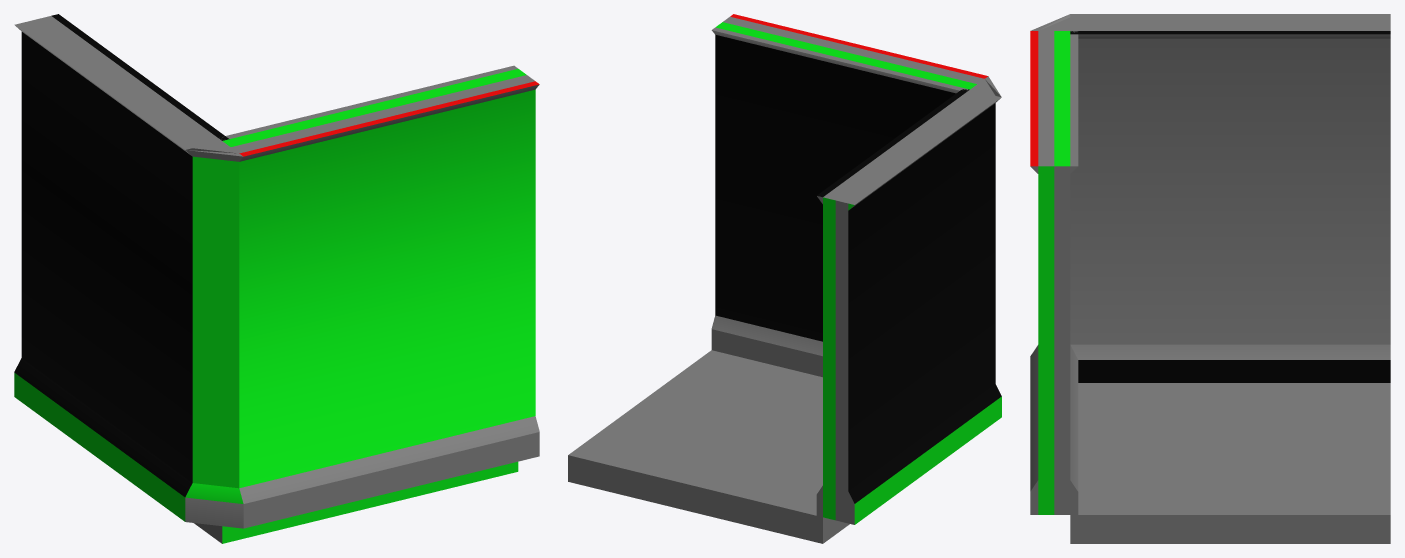
3 views of the same model, side by side, from view 1: azimuth 30°, elevation 25°; view 2: azimuth 150°, elevation 25°; view 3: azimuth 270°, elevation 25° (orthographic). The views are drawn at different scales.
Visible parts, largest first — view 1: ModularCorner; view 2: ModularCorner; view 3: ModularCorner.
Boxes of the visible parts, left/top/right/bottom form: ModularCorner: left=14, top=14, right=539, bottom=543; ModularCorner: left=568, top=14, right=1001, bottom=543; ModularCorner: left=1030, top=14, right=1390, bottom=543.
Bounding box in the file's own units: 113 × 130 × 113.
